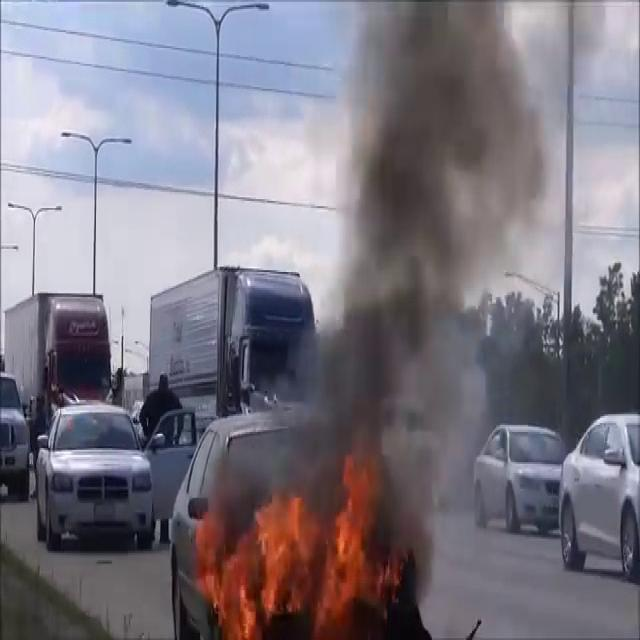Fire: (198, 458, 391, 636)
Smoke: (274, 0, 548, 507)
